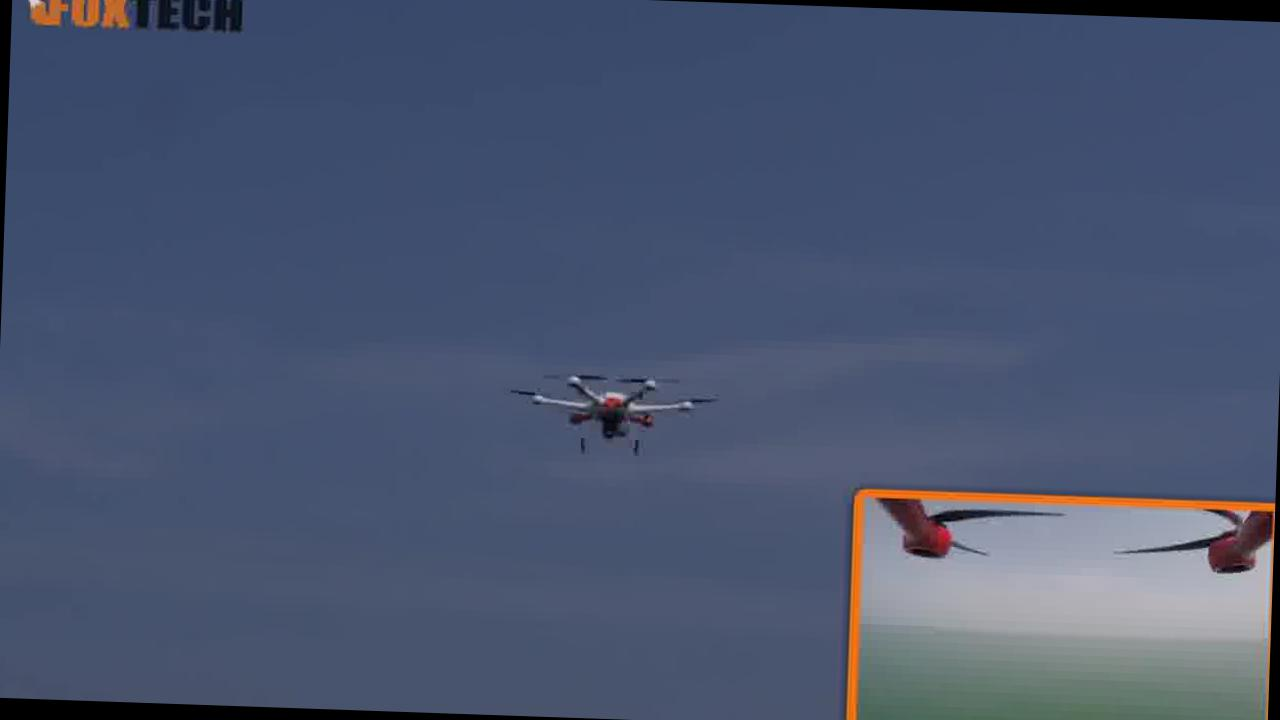drone: (490, 356, 745, 478)
